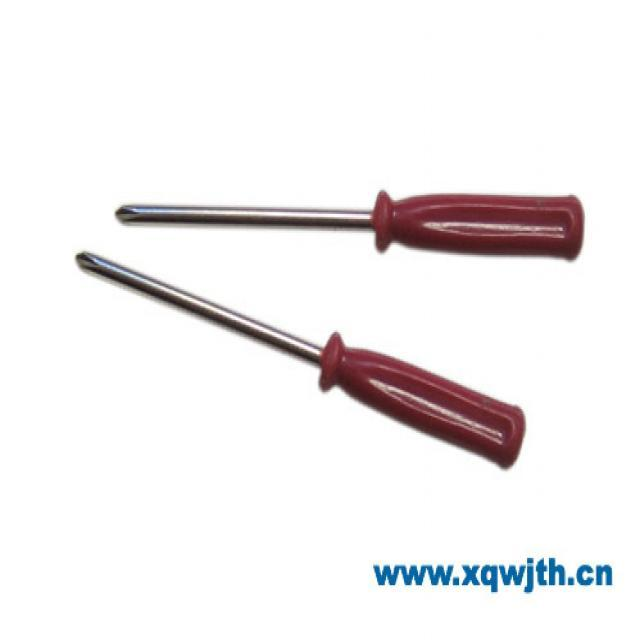screwdriver: (61, 236, 536, 481), (104, 183, 600, 263)
